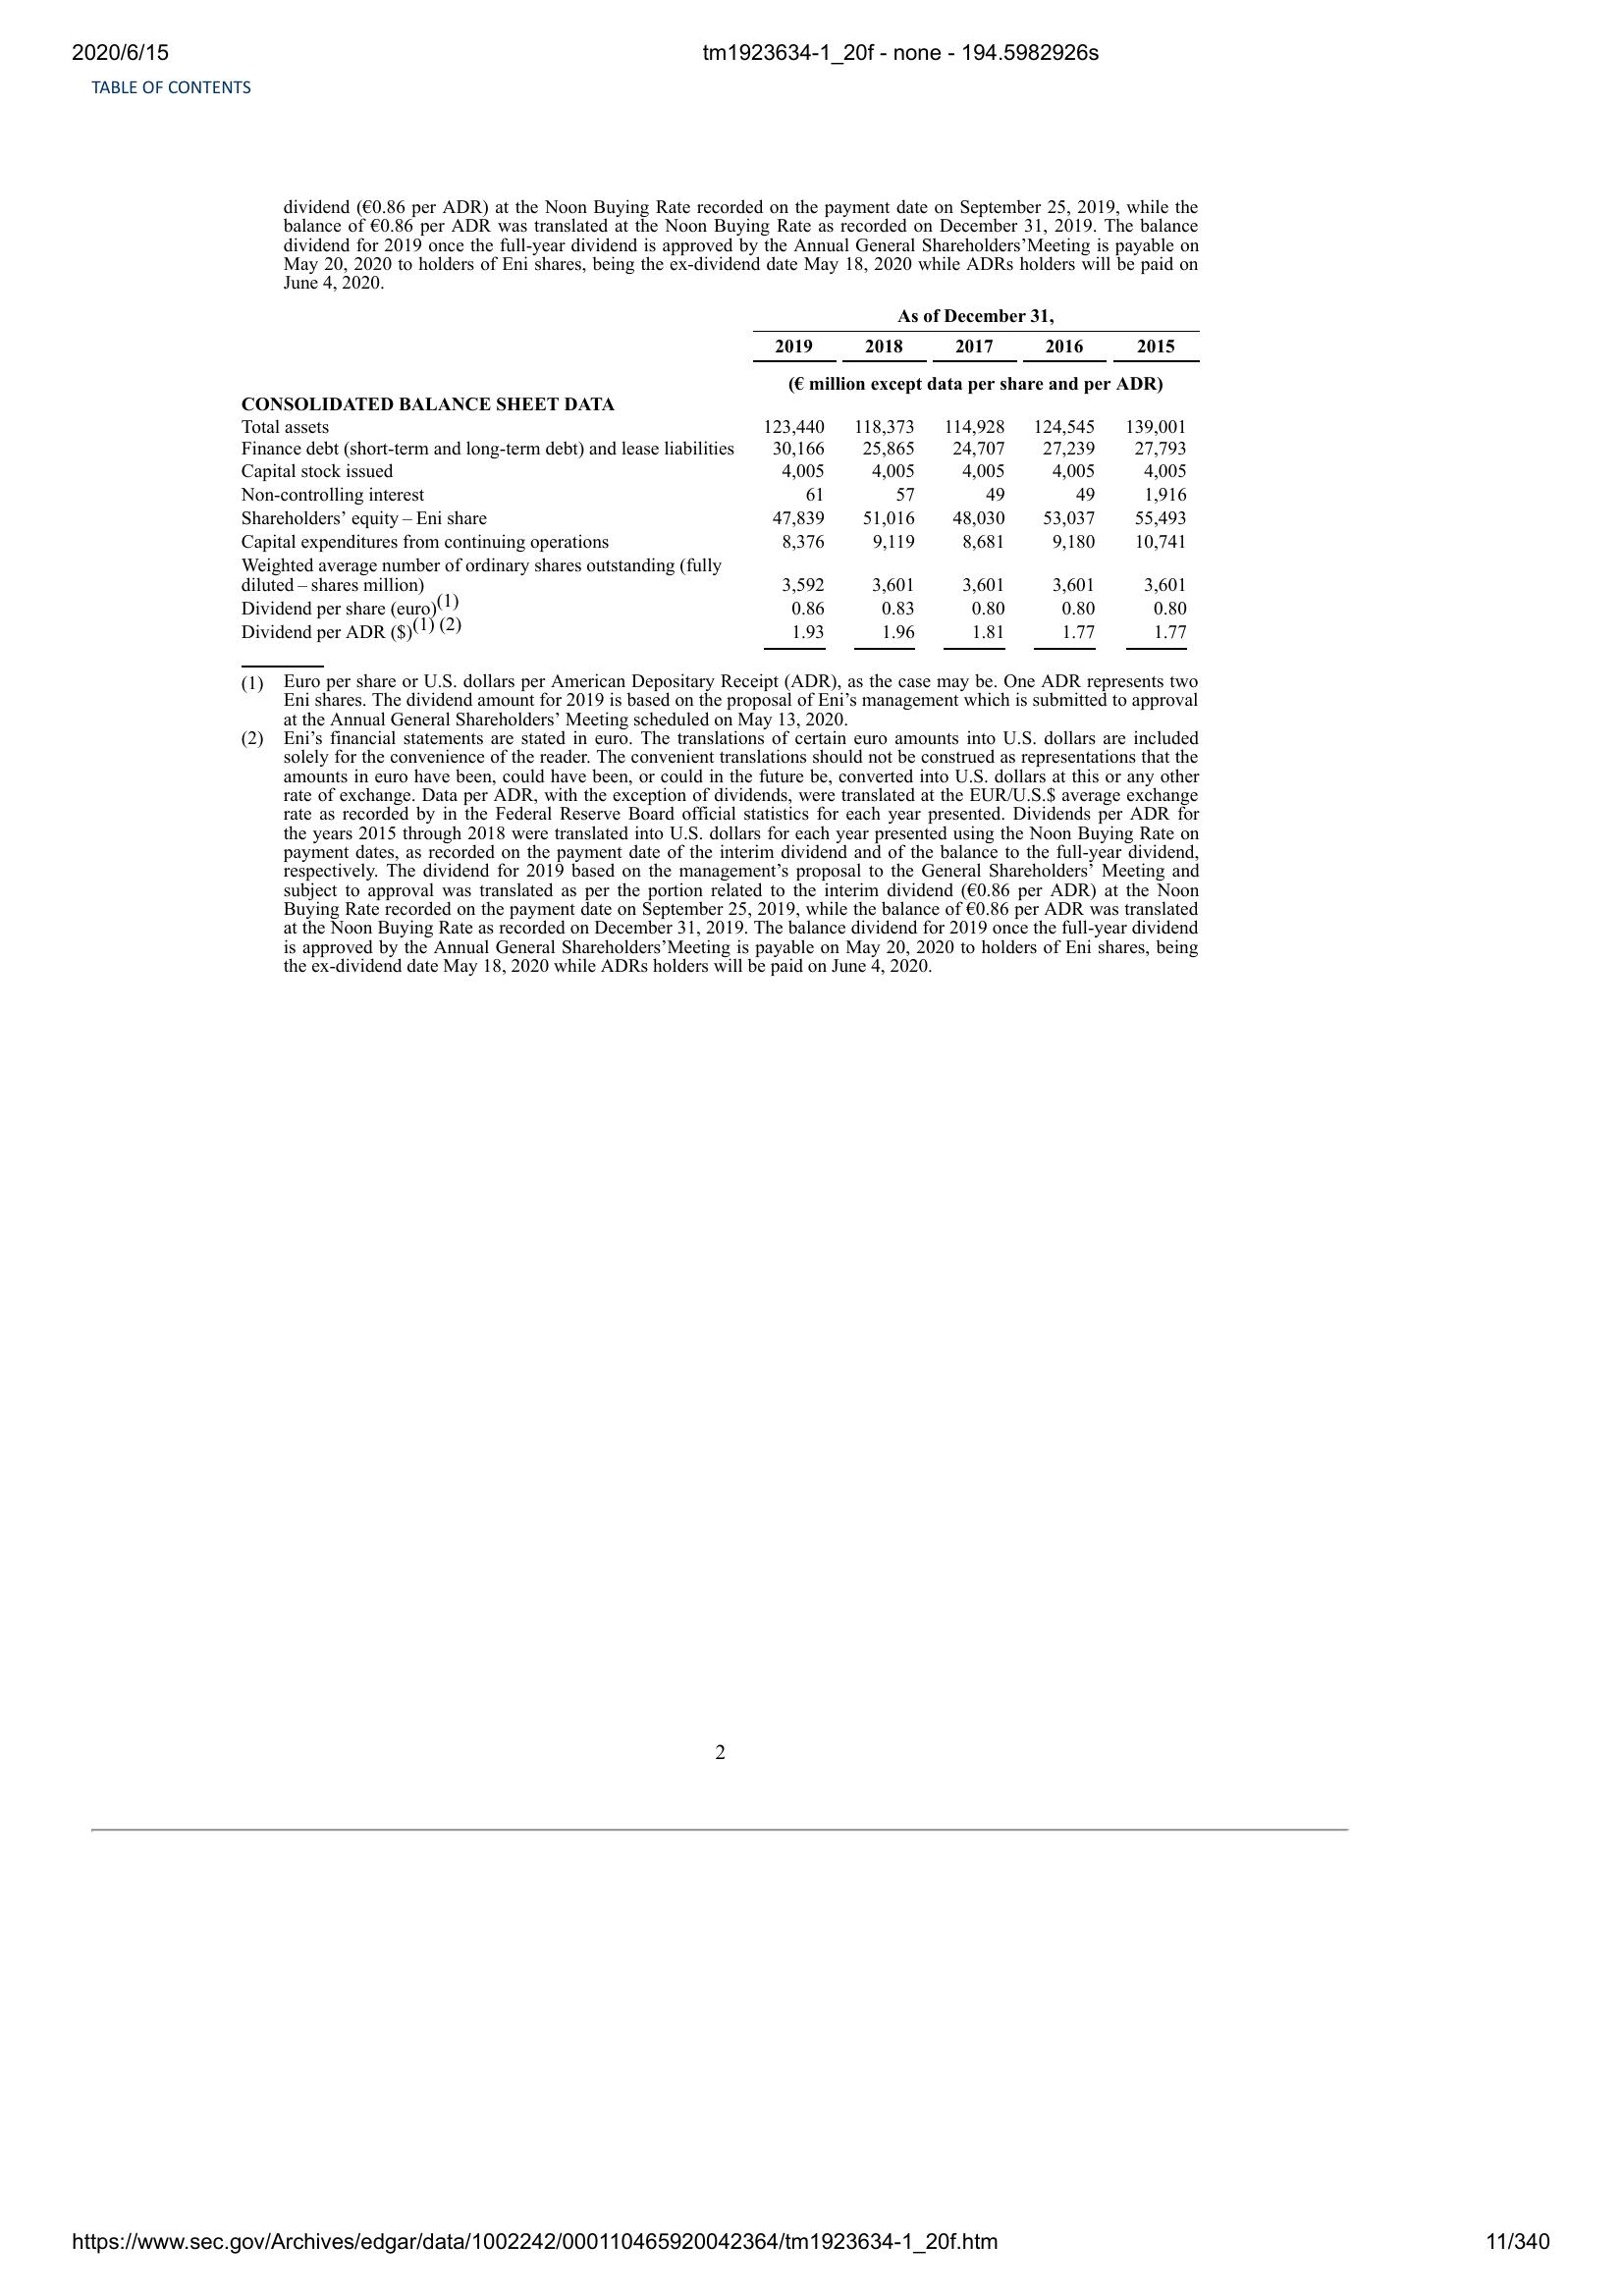table: (235, 305, 1200, 657)
